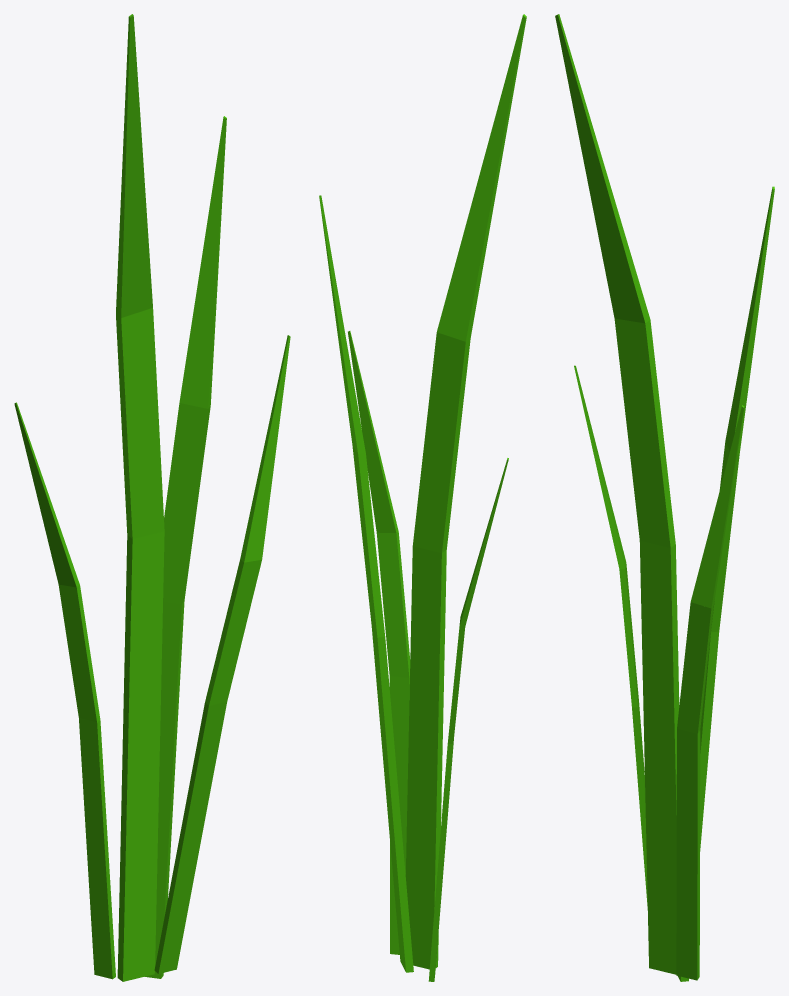
The model's file is Bambus.fbx.
3 renders of one model, left to right at view 1: azimuth 30°, elevation 25°; view 2: azimuth 150°, elevation 25°; view 3: azimuth 330°, elevation 25°, orthographic. The views are drawn at different scales.
Visible parts, largest first — view 1: Cube, Cube.002, Trawa, Cube.006, Cube.003, Cube.004, Cube.001, Trawa.001, Cube.007, Trawa.003, Cube.005, Trawa.002; view 2: Cube, Cube.002, Trawa, Cube.001, Cube.007, Cube.006, Trawa.003, Cube.003, Trawa.001, Cube.004, Trawa.002, Cube.005; view 3: Cube, Cube.002, Trawa, Cube.006, Cube.007, Trawa.003, Trawa.001, Cube.001, Cube.003, Trawa.002, Cube.004, Cube.005.
Boxes of the visible parts, x1,y1,x2,y2 form: Cube: (117, 16, 164, 981); Cube.002: (116, 308, 164, 538); Trawa: (116, 14, 152, 317); Cube.006: (154, 701, 226, 973); Cube.003: (163, 403, 210, 603); Cube.004: (15, 403, 115, 979); Cube.001: (144, 601, 184, 978); Trawa.001: (179, 116, 226, 408); Cube.007: (205, 559, 261, 705); Trawa.003: (240, 335, 290, 562); Cube.005: (58, 584, 100, 722); Trawa.002: (14, 402, 79, 587); Cube: (405, 15, 525, 969); Cube.002: (412, 332, 470, 552); Trawa: (437, 14, 526, 341); Cube.001: (371, 626, 413, 972); Cube.007: (376, 532, 410, 677); Cube.006: (389, 676, 409, 954); Trawa.003: (348, 331, 398, 532); Cube.003: (352, 445, 385, 637); Trawa.001: (319, 195, 365, 453); Cube.004: (428, 458, 508, 981); Trawa.002: (459, 459, 508, 627); Cube.005: (447, 623, 465, 743); Cube: (556, 15, 679, 974); Cube.002: (614, 318, 675, 547); Trawa: (555, 14, 650, 323); Cube.006: (676, 729, 700, 980); Cube.007: (677, 602, 713, 733); Trawa.003: (690, 405, 744, 608); Trawa.001: (725, 186, 774, 454); Cube.001: (678, 631, 719, 981); Cube.003: (711, 441, 739, 632); Trawa.002: (574, 365, 626, 569); Cube.004: (632, 699, 647, 905); Cube.005: (619, 564, 638, 707).
Bounding box in the file's own units: 0.0772 × 0.1412 × 0.6088.
